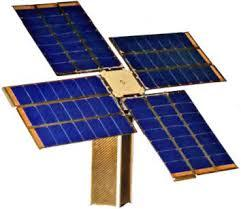body: (87, 66, 146, 209)
solar: (119, 90, 241, 184), (0, 73, 140, 152), (11, 0, 125, 78), (107, 28, 229, 89)
